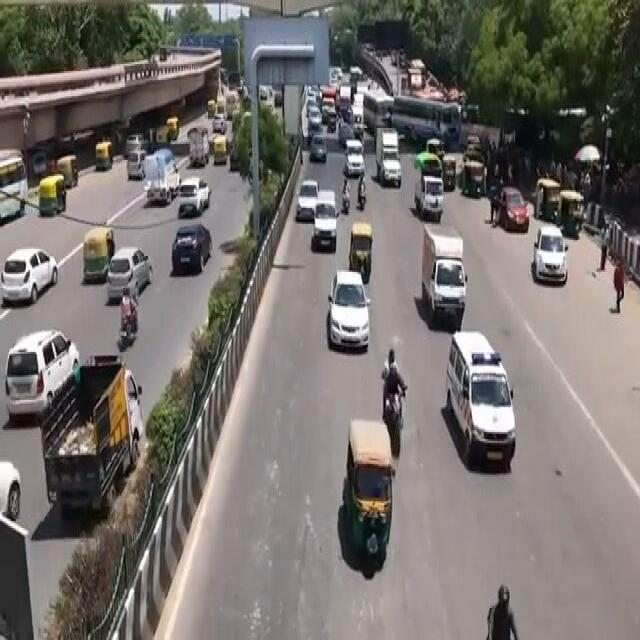three_wheeler: (328, 402, 399, 597)
